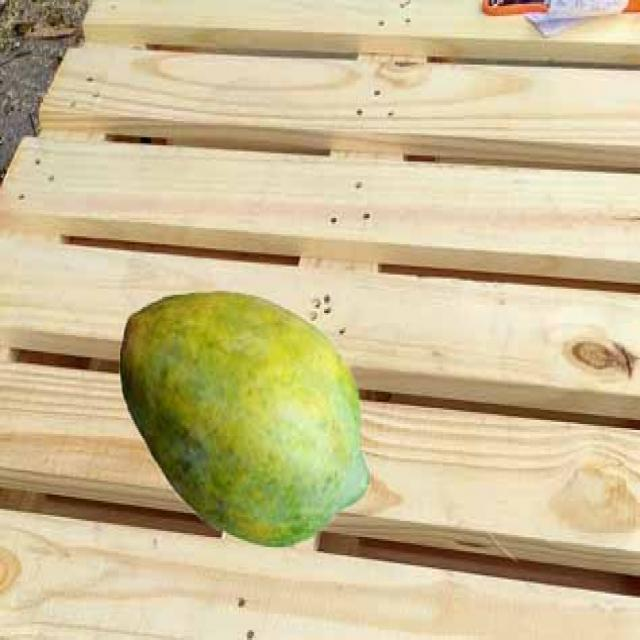Pepaya rippen: (119, 279, 366, 543)
